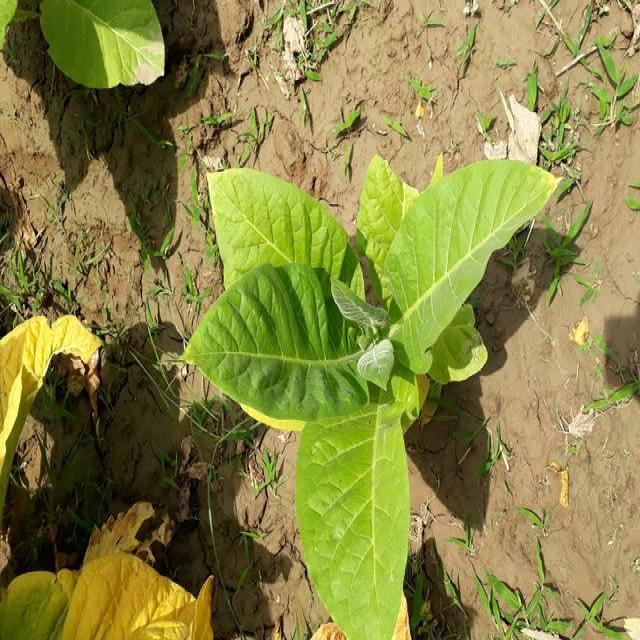crop: (178, 160, 558, 640)
